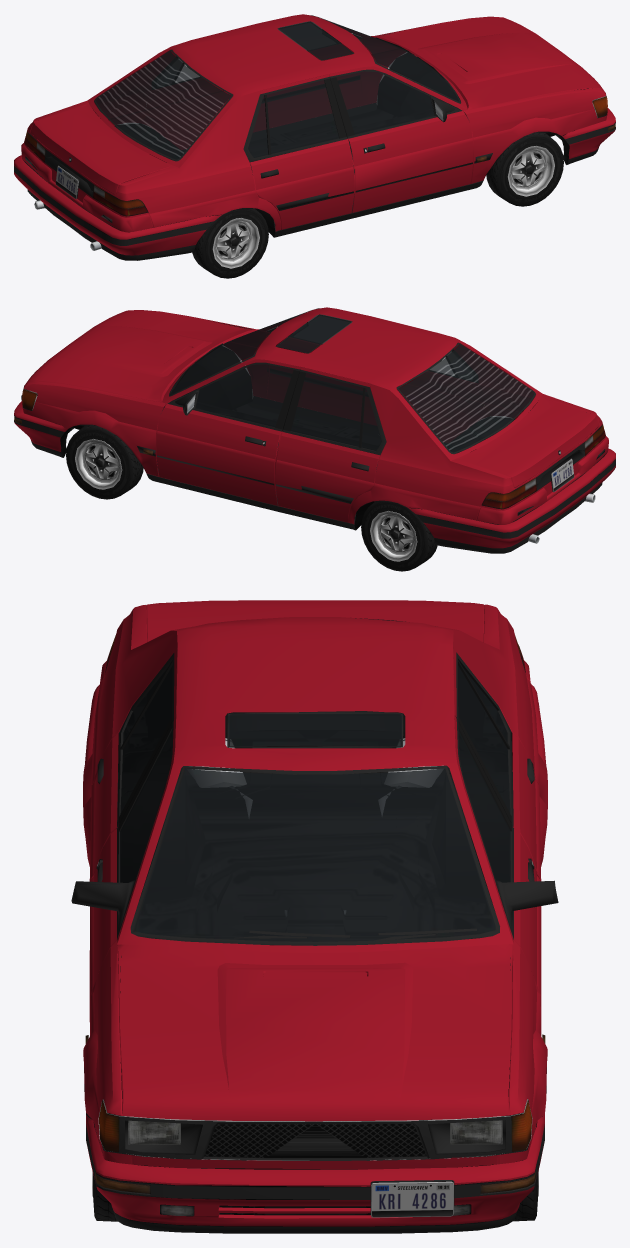
File: kiri_lod.gltf
3 views of the same model, one above another, from view 1: azimuth 30°, elevation 25°; view 2: azimuth 150°, elevation 25°; view 3: azimuth 270°, elevation 25° (orthographic). The views are drawn at different scales.
Visible parts, largest first — view 1: kiri86_Body_kiri86_Bodymat_0, kiri86_Bottom_UCB_BOTTOM_GT_0, kiri86_Hood_kiri86_Bodymat_0, kiri86_Rear_window_UCB_Lights_and_Glass_Transperent_0, kiri86_Body_Glass_UCB_Lights_and_Glass_Transperent_0, kiri86_Trunk_door_kiri86_Bodymat_0, kiri86_Wheel_FR_RB1c_Tire_1k_0, kiri86_Glass_Passenger_UCB_Lights_and_Glass_Transperent_0, kiri86_Wheel_RR_RB1c_Tire_1k_0, kiri86_Bumper_rear_kiri86_Bodymat_0, kiri86_bumper_rear_inner_UCB_BOTTOM_GT_0, kiri86_Windshield_UCB_Lights_and_Glass_Transperent_0 (+6 smaller); view 2: kiri86_Body_kiri86_Bodymat_0, kiri86_Bottom_UCB_BOTTOM_GT_0, kiri86_Hood_kiri86_Bodymat_0, kiri86_Rear_window_UCB_Lights_and_Glass_Transperent_0, kiri86_Body_Glass_UCB_Lights_and_Glass_Transperent_0, kiri86_Trunk_door_kiri86_Bodymat_0, kiri86_Wheel_FL_RB1c_Tire_1k_0, kiri86_Glass_Driver_UCB_Lights_and_Glass_Transperent_0, kiri86_Wheel_RL_RB1c_Tire_1k_0, kiri86_Bumper_rear_kiri86_Bodymat_0, kiri86_bumper_rear_inner_UCB_BOTTOM_GT_0, kiri86_Windshield_UCB_Lights_and_Glass_Transperent_0 (+6 smaller); view 3: kiri86_Bottom_UCB_BOTTOM_GT_0, kiri86_Body_kiri86_Bodymat_0, kiri86_Hood_kiri86_Bodymat_0, kiri86_Windshield_UCB_Lights_and_Glass_Transperent_0, kiri86_Bumper_front_kiri86_Bodymat_0, kiri86_Body_Glass_UCB_Lights_and_Glass_Transperent_0, kiri86_Bumper_Front_Inner_UCB_BOTTOM_GT_0, kiri86_Trunk_door_kiri86_Bodymat_0, kiri86_Headlights_Glass_UCB_Lights_and_Glass_Transperent_0, kiri86_Glass_Driver_UCB_Lights_and_Glass_Transperent_0, kiri86_Glass_Passenger_UCB_Lights_and_Glass_Transperent_0, kiri86_Numberplates_Front_Numberplates_Misk_U_0 (+3 smaller).
Part boxes in pixels (box(x1,y1,x2,y2)): kiri86_Body_kiri86_Bodymat_0: box(21, 14, 607, 232); kiri86_Bottom_UCB_BOTTOM_GT_0: box(23, 15, 606, 250); kiri86_Hood_kiri86_Bodymat_0: box(371, 17, 603, 109); kiri86_Rear_window_UCB_Lights_and_Glass_Transperent_0: box(95, 50, 231, 159); kiri86_Body_Glass_UCB_Lights_and_Glass_Transperent_0: box(157, 22, 352, 157); kiri86_Trunk_door_kiri86_Bodymat_0: box(30, 104, 172, 194); kiri86_Wheel_FR_RB1c_Tire_1k_0: box(486, 132, 563, 206); kiri86_Glass_Passenger_UCB_Lights_and_Glass_Transperent_0: box(336, 71, 434, 134); kiri86_Wheel_RR_RB1c_Tire_1k_0: box(192, 208, 268, 278); kiri86_Bumper_rear_kiri86_Bodymat_0: box(14, 155, 221, 255); kiri86_bumper_rear_inner_UCB_BOTTOM_GT_0: box(14, 166, 213, 260); kiri86_Windshield_UCB_Lights_and_Glass_Transperent_0: box(314, 16, 459, 101); kiri86_Body_kiri86_Bodymat_0: box(22, 307, 608, 524); kiri86_Bottom_UCB_BOTTOM_GT_0: box(22, 308, 606, 543); kiri86_Hood_kiri86_Bodymat_0: box(26, 310, 258, 402); kiri86_Rear_window_UCB_Lights_and_Glass_Transperent_0: box(398, 344, 534, 452); kiri86_Body_Glass_UCB_Lights_and_Glass_Transperent_0: box(277, 315, 472, 450); kiri86_Trunk_door_kiri86_Bodymat_0: box(457, 397, 599, 487); kiri86_Wheel_FL_RB1c_Tire_1k_0: box(66, 425, 143, 499); kiri86_Glass_Driver_UCB_Lights_and_Glass_Transperent_0: box(195, 364, 293, 427); kiri86_Wheel_RL_RB1c_Tire_1k_0: box(361, 501, 437, 571); kiri86_Bumper_rear_kiri86_Bodymat_0: box(407, 448, 615, 548); kiri86_bumper_rear_inner_UCB_BOTTOM_GT_0: box(416, 459, 615, 553); kiri86_Windshield_UCB_Lights_and_Glass_Transperent_0: box(170, 308, 316, 394); kiri86_Bottom_UCB_BOTTOM_GT_0: box(71, 650, 558, 1169); kiri86_Body_kiri86_Bodymat_0: box(83, 604, 547, 1169); kiri86_Hood_kiri86_Bodymat_0: box(117, 944, 513, 1121); kiri86_Windshield_UCB_Lights_and_Glass_Transperent_0: box(135, 768, 495, 941); kiri86_Bumper_front_kiri86_Bodymat_0: box(86, 1114, 544, 1226); kiri86_Body_Glass_UCB_Lights_and_Glass_Transperent_0: box(120, 665, 510, 813); kiri86_Bumper_Front_Inner_UCB_BOTTOM_GT_0: box(86, 1119, 544, 1233); kiri86_Trunk_door_kiri86_Bodymat_0: box(146, 600, 484, 642); kiri86_Headlights_Glass_UCB_Lights_and_Glass_Transperent_0: box(99, 1100, 531, 1152); kiri86_Glass_Driver_UCB_Lights_and_Glass_Transperent_0: box(458, 731, 510, 882); kiri86_Glass_Passenger_UCB_Lights_and_Glass_Transperent_0: box(120, 731, 171, 882); kiri86_Numberplates_Front_Numberplates_Misk_U_0: box(371, 1181, 453, 1217).
Size of the model in its own units: 4.31 by 1.32 by 1.76.
Materials: 6 (5 with a texture image).
